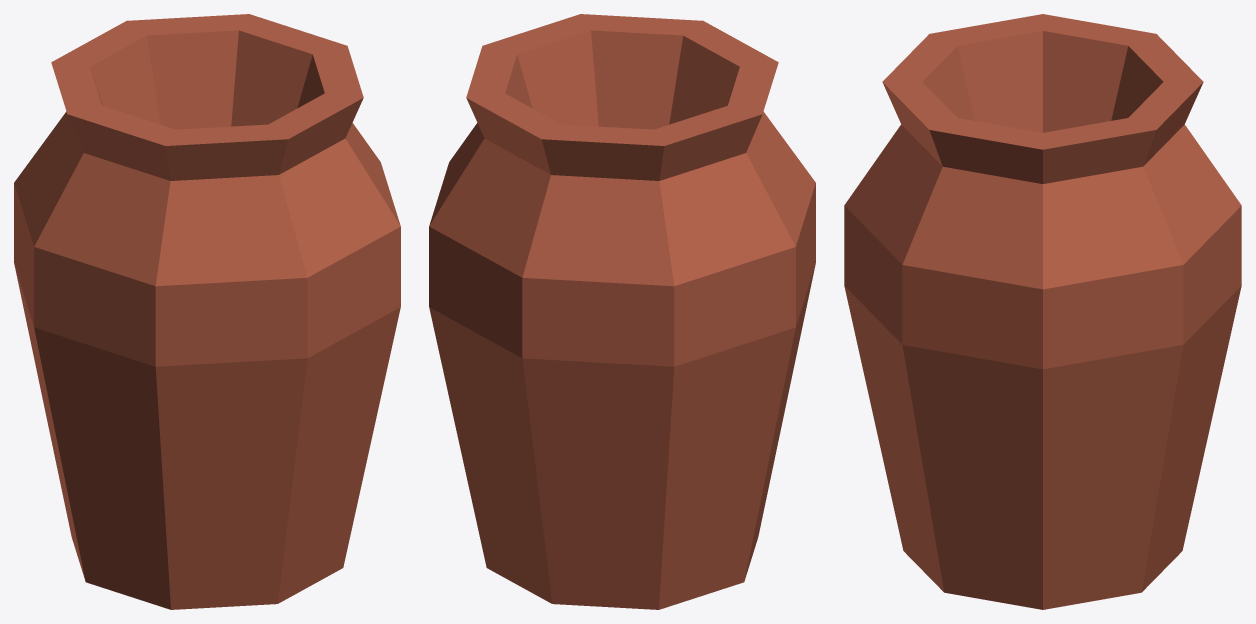
Rendered from pot_2.fbx.
3 renders of one model, left to right at view 1: azimuth 30°, elevation 25°; view 2: azimuth 150°, elevation 25°; view 3: azimuth 270°, elevation 25°, orthographic.
Parts seen in each view (by area): view 1: pot_2; view 2: pot_2; view 3: pot_2.
Part boxes in pixels (x1,y1,x2,y2): pot_2: (14, 14, 400, 609); pot_2: (429, 14, 815, 609); pot_2: (844, 14, 1241, 609).
Bounding box in the file's own units: 66.03 × 85.98 × 66.03.
